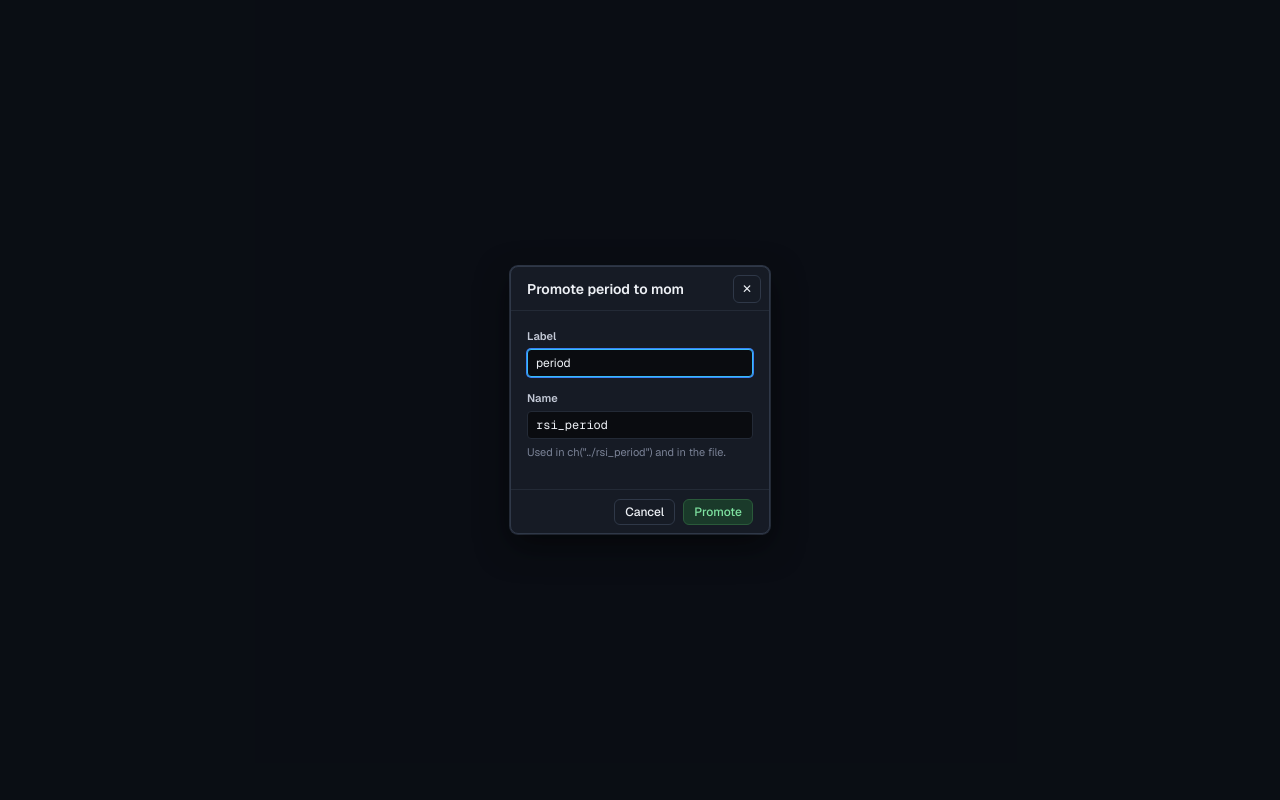
Promote popover and param menu › a taken name turns the field red and disables Promote
The image size is (1280, 800).
Replace the text in the field labelled "Name" with "taken" at (640, 425), box [527,411,753,439]
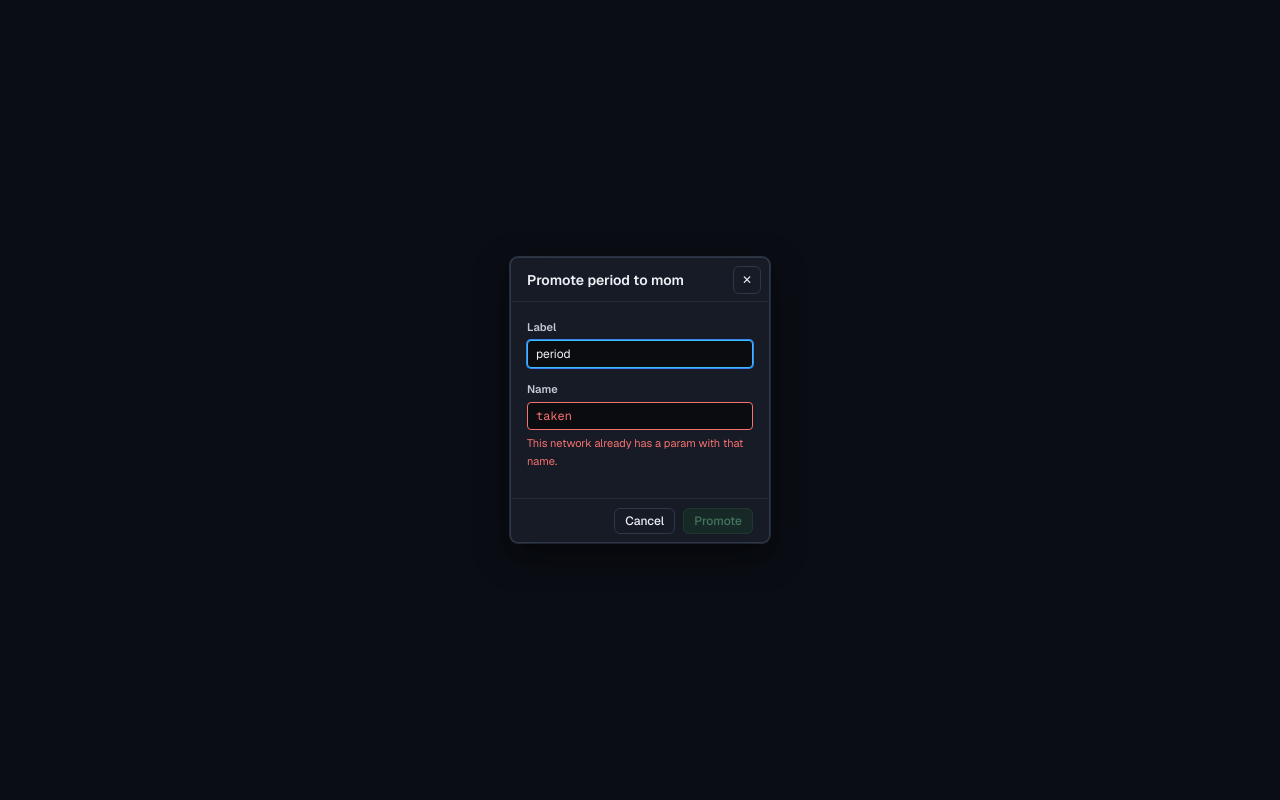
Expected: the button "Promote" is disabled, [683,508,753,534]
